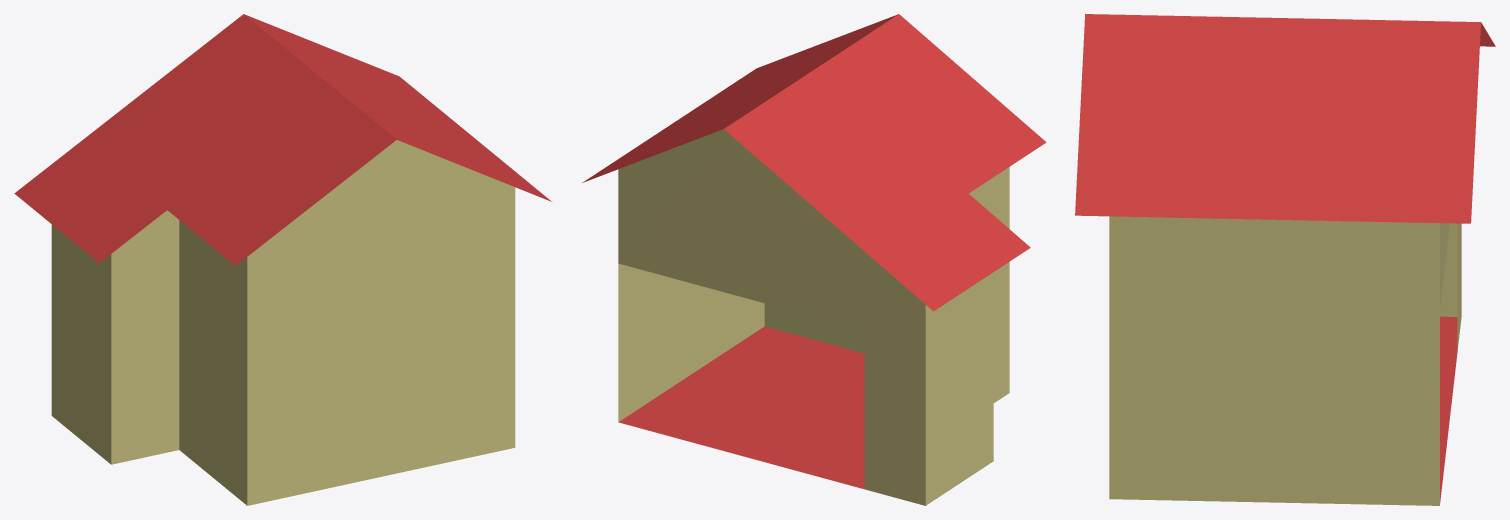
The picture shows the model from 3 angles, left to right: view 1: azimuth 30°, elevation 25°; view 2: azimuth 150°, elevation 25°; view 3: azimuth 270°, elevation 25°; orthographic projection. The views are drawn at different scales.
Size of the model in its own units: 11.95 by 9.62 by 10.36.
